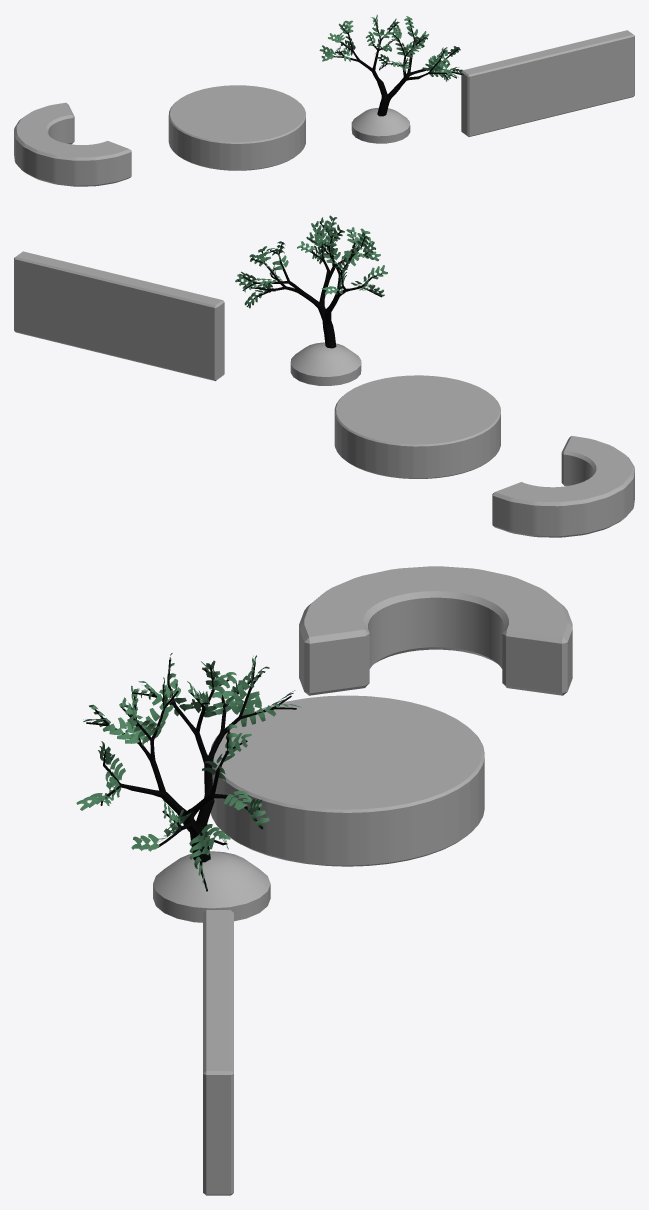
The picture shows the model from 3 angles, top to bottom: view 1: azimuth 30°, elevation 25°; view 2: azimuth 150°, elevation 25°; view 3: azimuth 270°, elevation 25°; orthographic projection. The views are drawn at different scales.
Visible parts, largest first — view 1: pCube1, pCylinder1, pPipe1, treeSimple2Leaf, pCylinder2, treeSimple2Main; view 2: pCube1, pCylinder1, pPipe1, treeSimple2Leaf, pCylinder2, treeSimple2Main; view 3: pCylinder1, pPipe1, pCube1, treeSimple2Leaf, pCylinder2, treeSimple2Main.
Boxes of the visible parts, left/top/right/bottom form: pCube1: left=461, top=30, right=634, bottom=136; pCylinder1: left=168, top=85, right=305, bottom=170; pPipe1: left=14, top=102, right=131, bottom=186; treeSimple2Leaf: left=319, top=14, right=463, bottom=81; pCylinder2: left=351, top=107, right=410, bottom=143; treeSimple2Main: left=323, top=19, right=461, bottom=116; pCube1: left=14, top=251, right=224, bottom=380; pCylinder1: left=334, top=375, right=500, bottom=478; pPipe1: left=492, top=436, right=634, bottom=537; treeSimple2Leaf: left=235, top=215, right=387, bottom=308; pCylinder2: left=290, top=342, right=361, bottom=385; treeSimple2Main: left=238, top=221, right=382, bottom=348; pCylinder1: left=210, top=695, right=484, bottom=866; pPipe1: left=299, top=566, right=572, bottom=695; pCube1: left=203, top=910, right=233, bottom=1195; treeSimple2Leaf: left=76, top=653, right=300, bottom=890; pCylinder2: left=153, top=851, right=270, bottom=922; treeSimple2Main: left=86, top=660, right=296, bottom=891.
Bounding box in the file's own units: 9.31 × 2.3 × 3.61.
